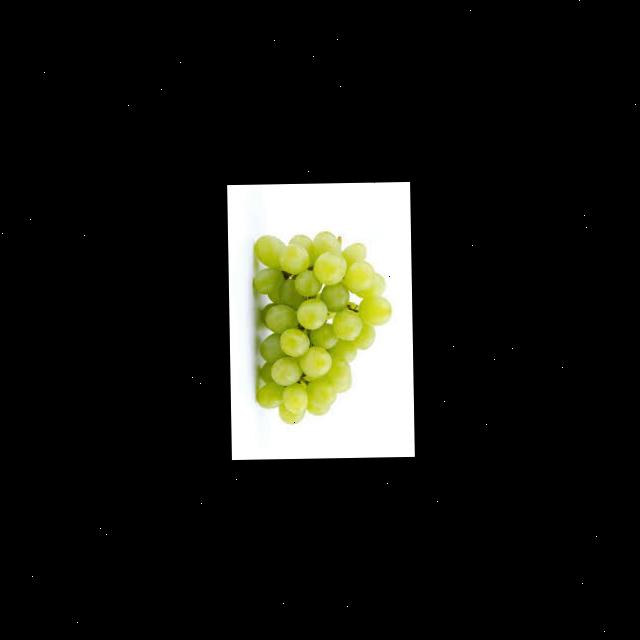grape: (251, 228, 394, 424)
